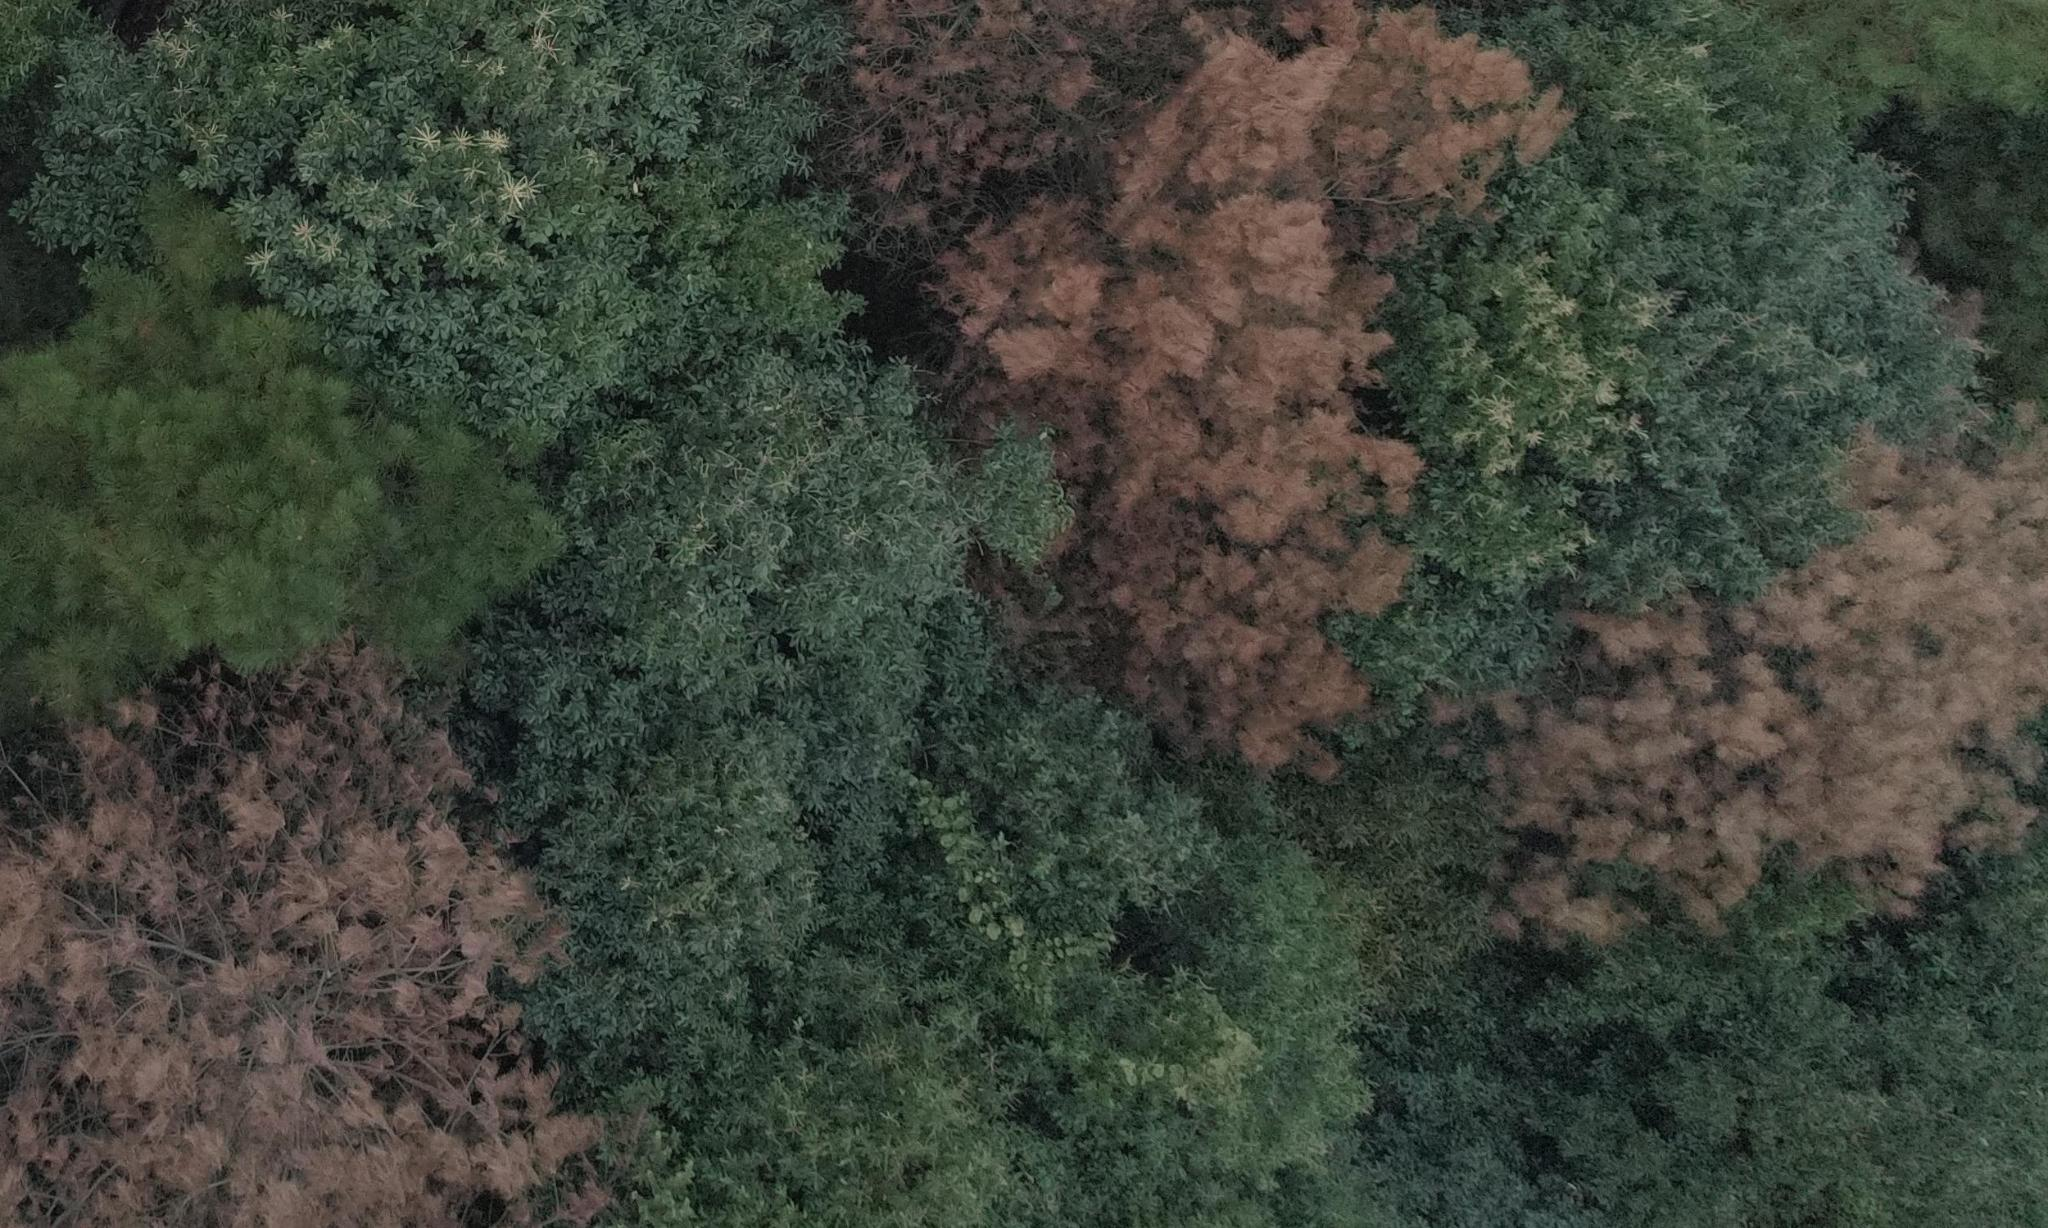heavy: (865, 4, 1457, 741), (3, 656, 591, 1218), (1525, 436, 2048, 906)
